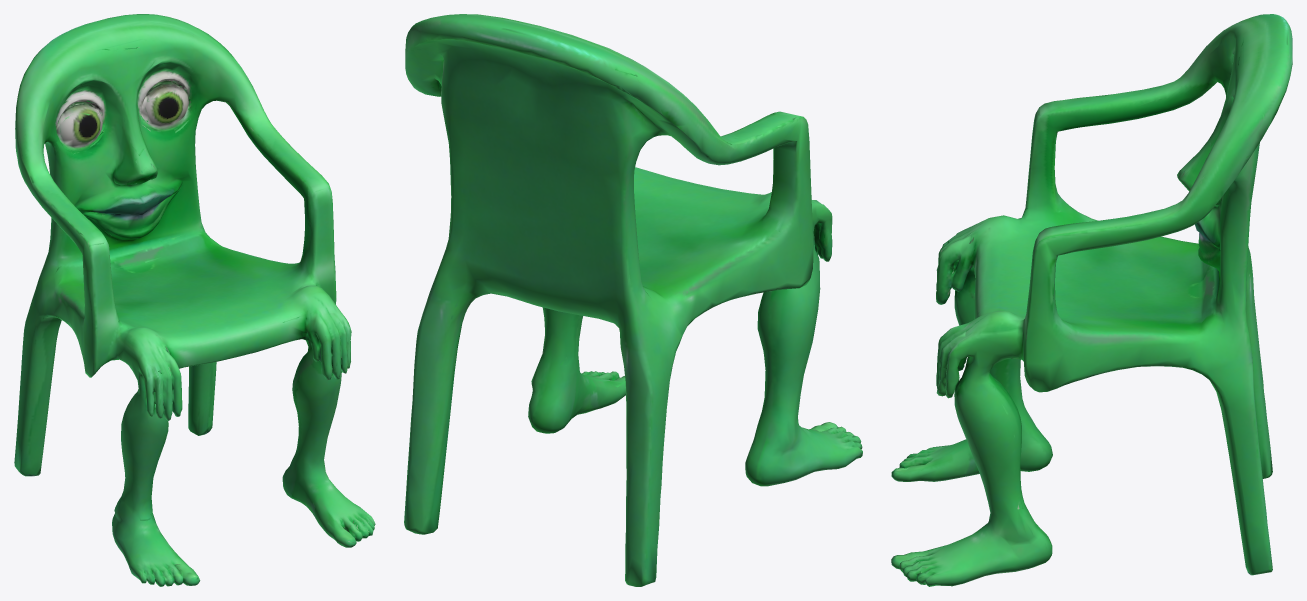
3 renders of one model, left to right at view 1: azimuth 30°, elevation 25°; view 2: azimuth 150°, elevation 25°; view 3: azimuth 270°, elevation 25°, orthographic. The views are drawn at different scales.
Parts seen in each view (by area): view 1: lowpolynavalny; view 2: lowpolynavalny; view 3: lowpolynavalny.
Boxes of the visible parts, x1,y1,x2,y2 form: lowpolynavalny: (14, 14, 375, 586); lowpolynavalny: (404, 14, 862, 586); lowpolynavalny: (891, 14, 1292, 586).
Size of the model in its own units: 114 by 190 by 142.
